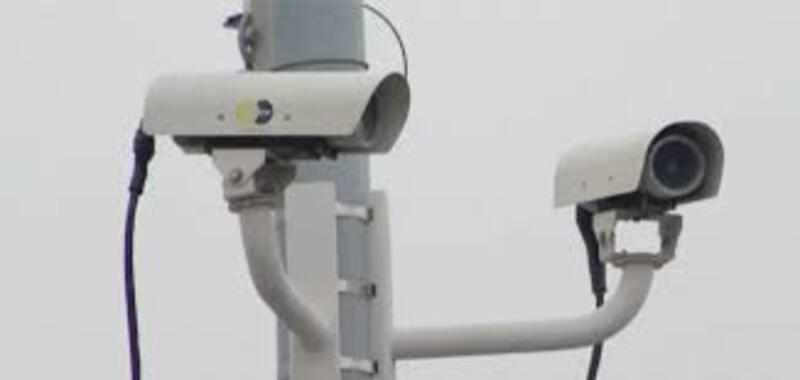box: (143, 68, 417, 157), (549, 123, 730, 210)
